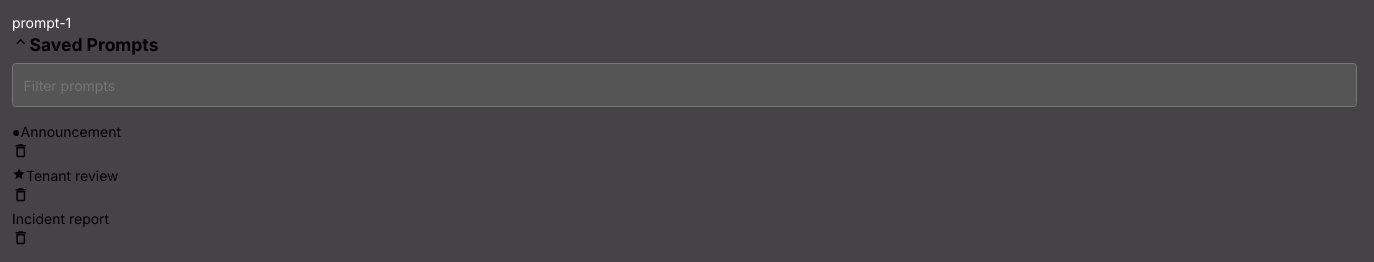
SavedPrompts › opens a prompt that is not in the tab strip
Expected: the text "Announcement" is shown, [20,123,121,140]
Click the button titled "Open Incident report".
click(61, 219)  # box [12,208,109,229]
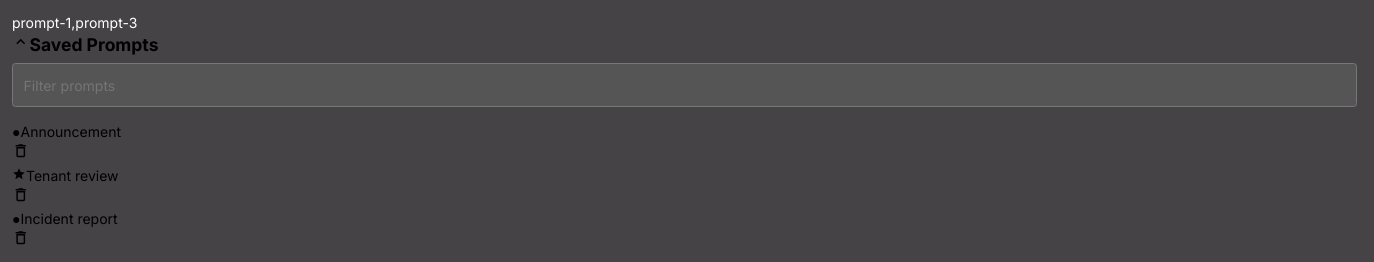
Now the text with test id "tabs" reads "prompt-1,prompt-3", box [12,14,137,31]
